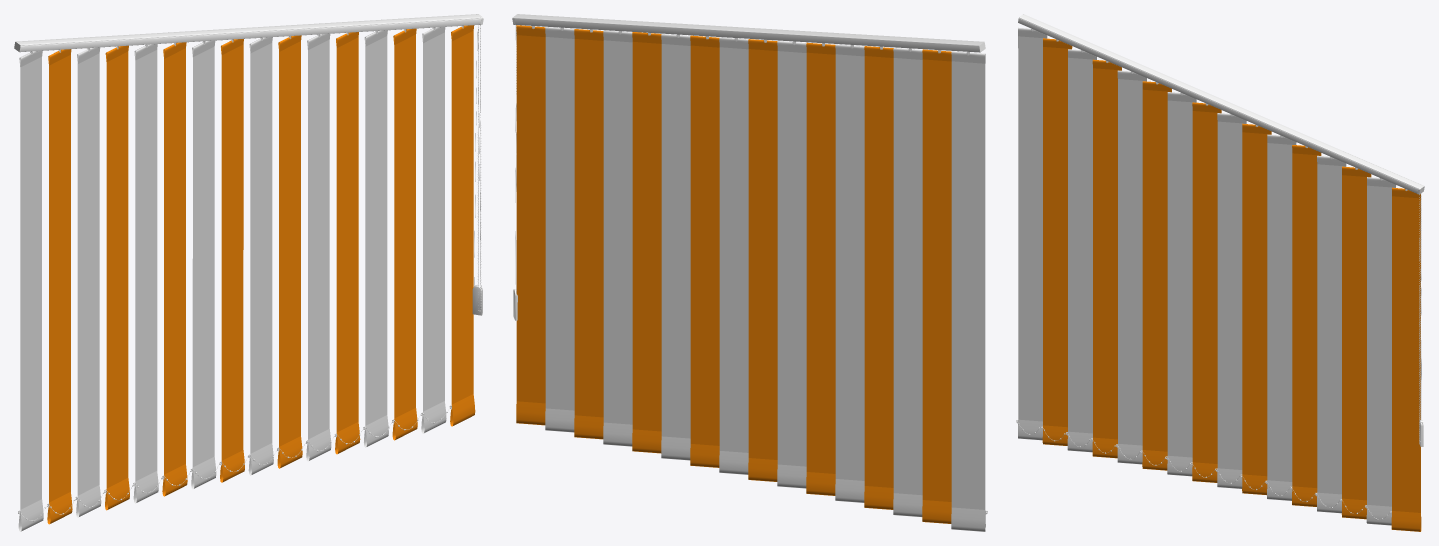
Rendered from Giebelfenster Lamellen.glb.
3 renders of one model, left to right at view 1: azimuth 30°, elevation 25°; view 2: azimuth 150°, elevation 25°; view 3: azimuth 330°, elevation 25°, orthographic. The views are drawn at different scales.
Visible parts, largest first — view 1: Plane.022, Plane.021, Plane.009, Plane.020, Plane.023, Plane.017, Plane.018, Plane.008, Plane.019, Plane.012, Plane.013, Plane.010 (+5 smaller); view 2: Plane.009, Plane.023, Plane.022, Plane.021, Plane.020, Plane.019, Plane.018, Plane.017, Plane.008, Plane.010, Plane.011, Plane.012 (+5 smaller); view 3: Plane.009, Plane.023, Plane.019, Plane.022, Plane.018, Plane.021, Plane.016, Plane.017, Plane.020, Plane.008, Plane.010, Plane.011 (+5 smaller).
Boxes of the visible parts, x1,y1,x2,y2 form: Plane.022: [76, 47, 101, 517]; Plane.021: [105, 45, 129, 510]; Plane.009: [18, 51, 43, 531]; Plane.020: [133, 44, 158, 503]; Plane.023: [47, 49, 72, 524]; Plane.017: [220, 39, 244, 482]; Plane.018: [191, 40, 216, 488]; Plane.008: [248, 37, 273, 475]; Plane.019: [162, 42, 187, 496]; Plane.012: [335, 32, 360, 454]; Plane.013: [364, 30, 388, 447]; Plane.010: [277, 35, 302, 468]; Plane.009: [951, 51, 985, 531]; Plane.023: [922, 49, 951, 523]; Plane.022: [893, 48, 922, 517]; Plane.021: [864, 46, 893, 509]; Plane.020: [835, 44, 864, 502]; Plane.019: [806, 42, 835, 495]; Plane.018: [777, 41, 806, 488]; Plane.017: [748, 39, 777, 481]; Plane.008: [719, 37, 748, 474]; Plane.010: [690, 35, 719, 467]; Plane.011: [661, 34, 690, 460]; Plane.012: [632, 32, 661, 453]; Plane.009: [1018, 27, 1047, 440]; Plane.023: [1042, 38, 1072, 445]; Plane.019: [1142, 81, 1171, 470]; Plane.022: [1067, 49, 1096, 452]; Plane.018: [1167, 92, 1196, 476]; Plane.021: [1092, 59, 1121, 458]; Plane.016: [1391, 187, 1421, 531]; Plane.017: [1192, 102, 1221, 482]; Plane.020: [1117, 70, 1146, 464]; Plane.008: [1217, 113, 1246, 488]; Plane.010: [1242, 123, 1271, 495]; Plane.011: [1267, 134, 1296, 500].
Bounding box in the file's own units: 2.01 × 2 × 0.0584.
Materials: 4 (1 with a texture image).
